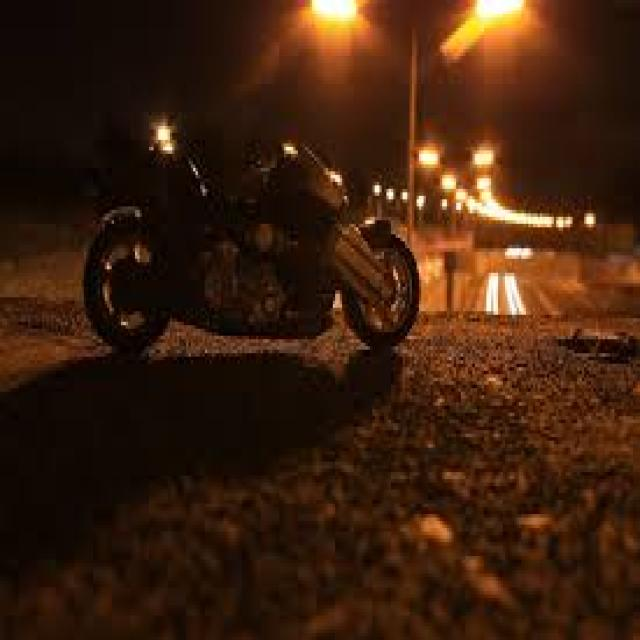Motorbike: (95, 115, 438, 360)
